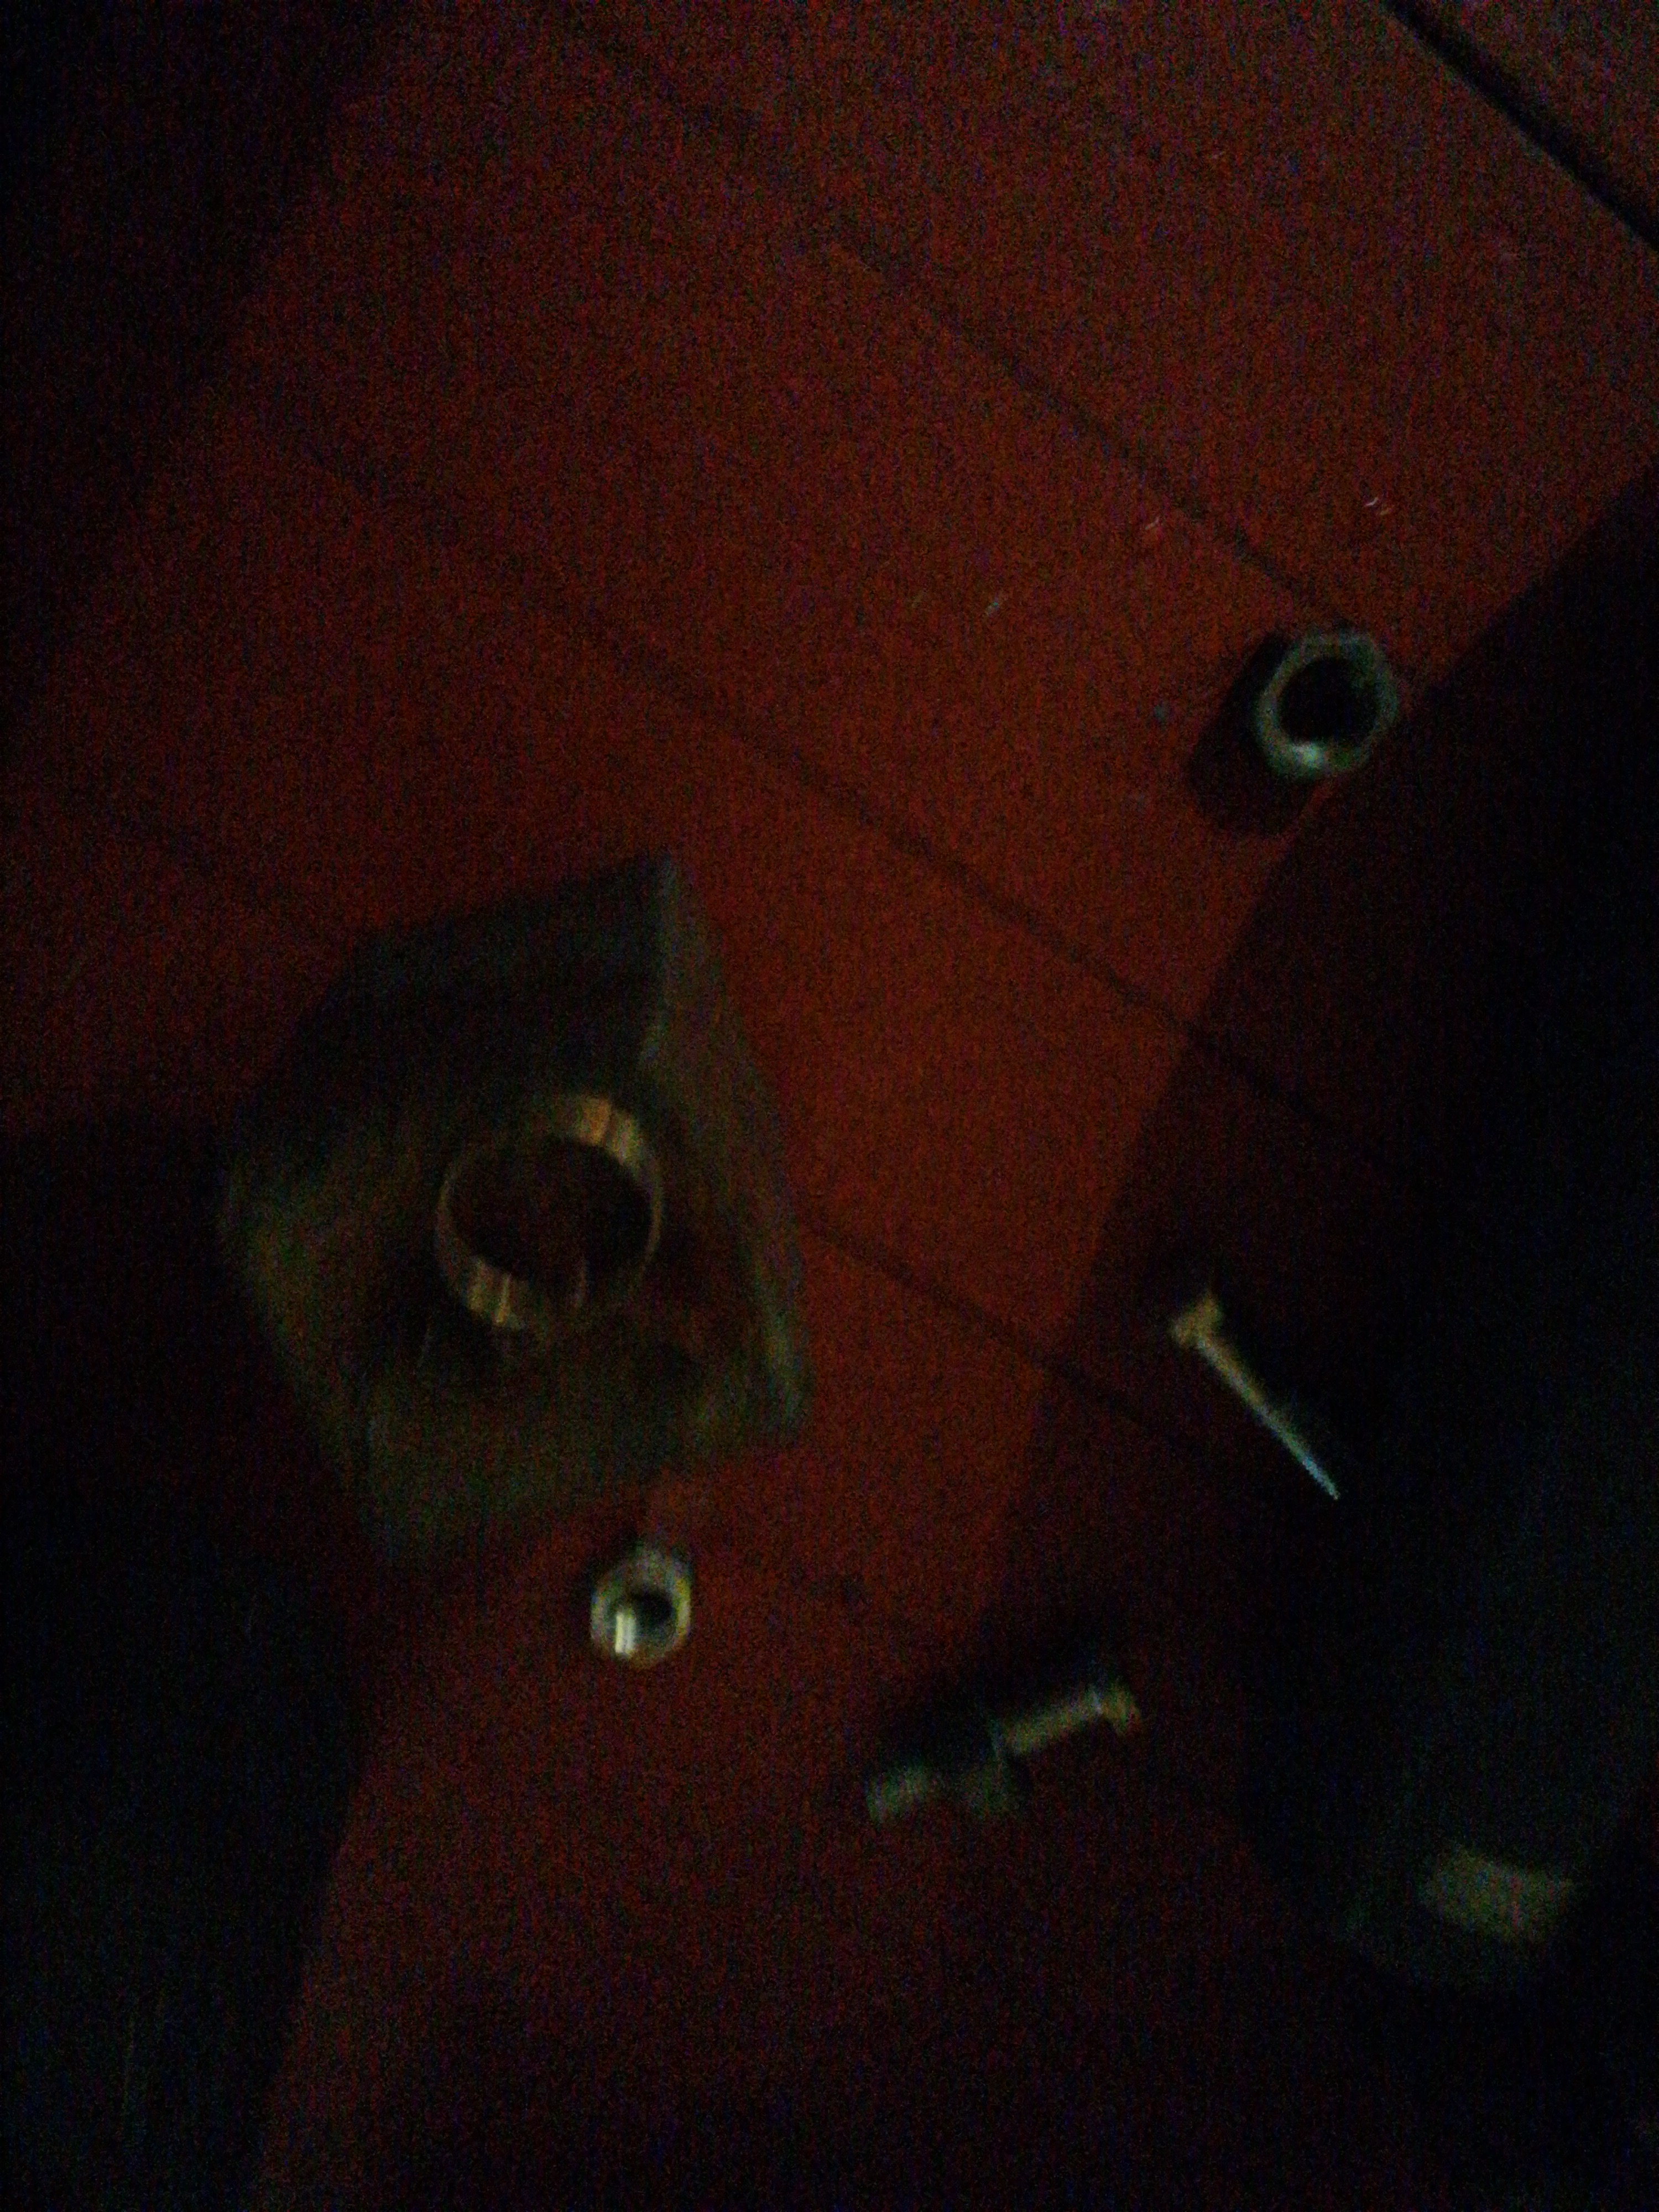bolt: (859, 1639, 1143, 1836), (1155, 1264, 1371, 1508)
lead_block: (211, 848, 805, 1583)
nut: (1239, 624, 1405, 786), (925, 1677, 1035, 1841), (575, 1545, 702, 1676)
pipe: (1253, 1113, 1659, 2010)
